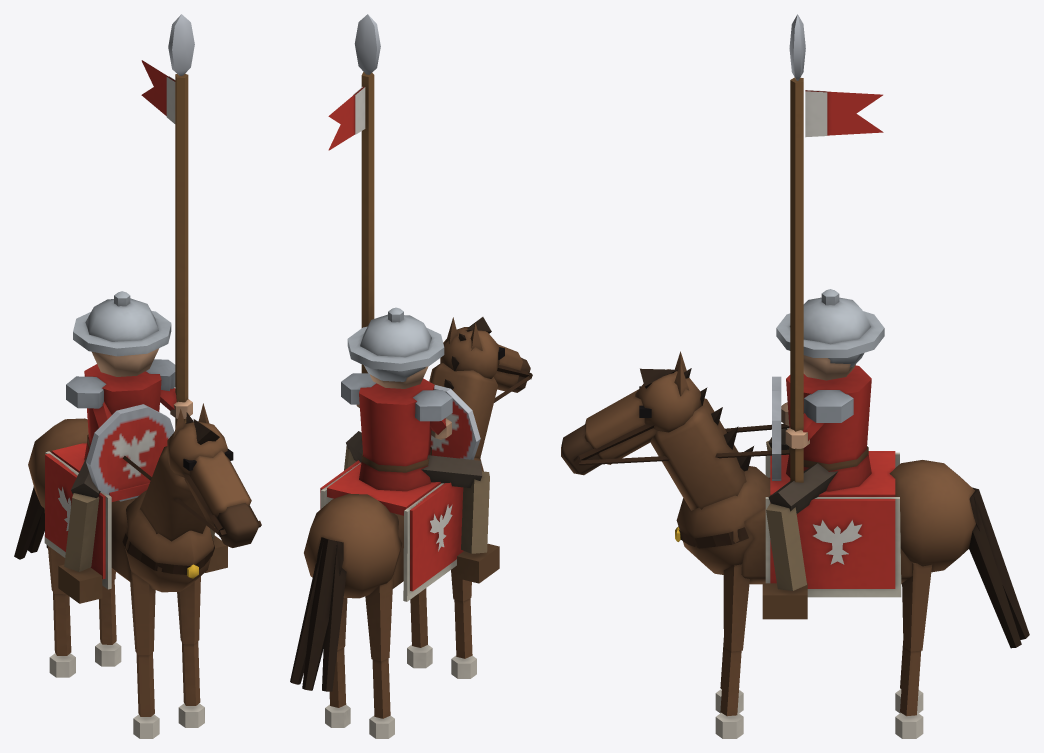
Rendered from assault_dl2_red.glb.
3 renders of one model, left to right at view 1: azimuth 30°, elevation 25°; view 2: azimuth 150°, elevation 25°; view 3: azimuth 270°, elevation 25°, orthographic. The views are drawn at different scales.
Visible parts, largest first — view 1: assault_dl2_red; view 2: assault_dl2_red; view 3: assault_dl2_red.
Boxes of the visible parts, <box> form: assault_dl2_red: <box>14,14,261,738</box>; assault_dl2_red: <box>290,14,532,738</box>; assault_dl2_red: <box>561,14,1029,738</box>.
Bounding box in the file's own units: 0.2399 × 1.03 × 0.6004.
1 material, 1 textured.
